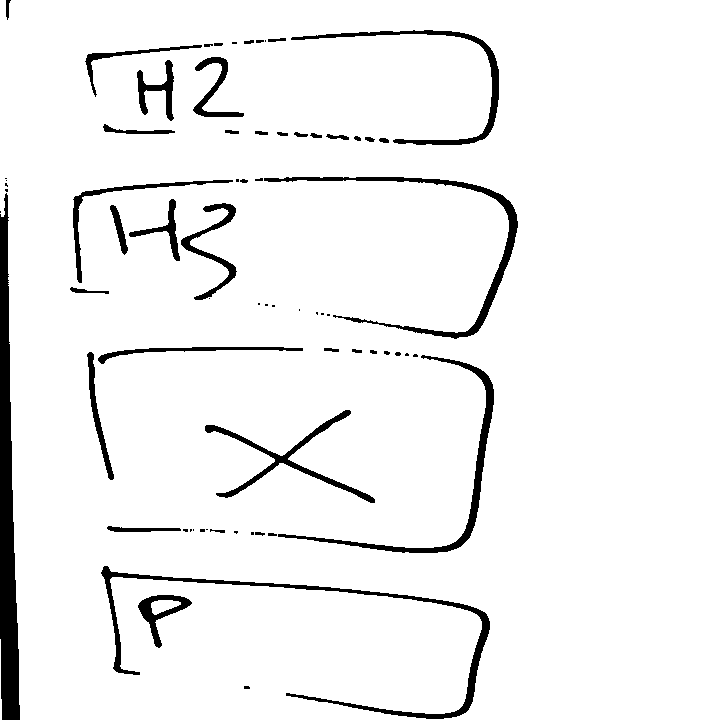heading2: (73, 25, 509, 159)
heading3: (69, 173, 526, 341)
paragraph: (98, 564, 497, 720)
picture: (82, 342, 498, 559)
